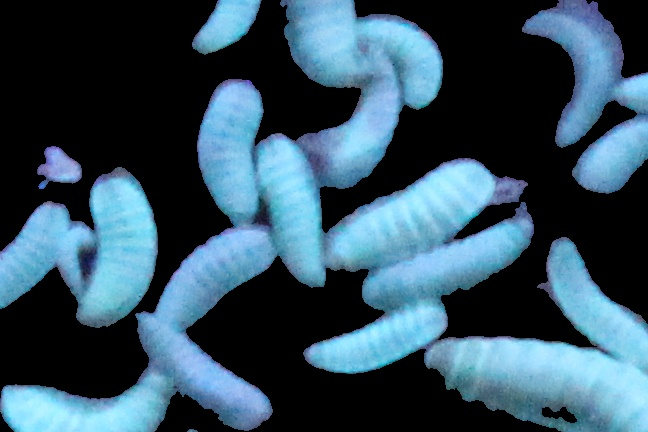larvae: (429, 332, 647, 432), (324, 158, 495, 266), (130, 315, 290, 426), (507, 1, 618, 144), (360, 219, 540, 304), (78, 169, 159, 318), (551, 241, 648, 356), (157, 225, 276, 317), (3, 372, 177, 432), (300, 302, 446, 370), (190, 84, 264, 218), (322, 61, 396, 189), (360, 12, 442, 110), (286, 1, 370, 88), (1, 201, 64, 312), (568, 118, 648, 197), (187, 1, 258, 53), (52, 225, 95, 294)
